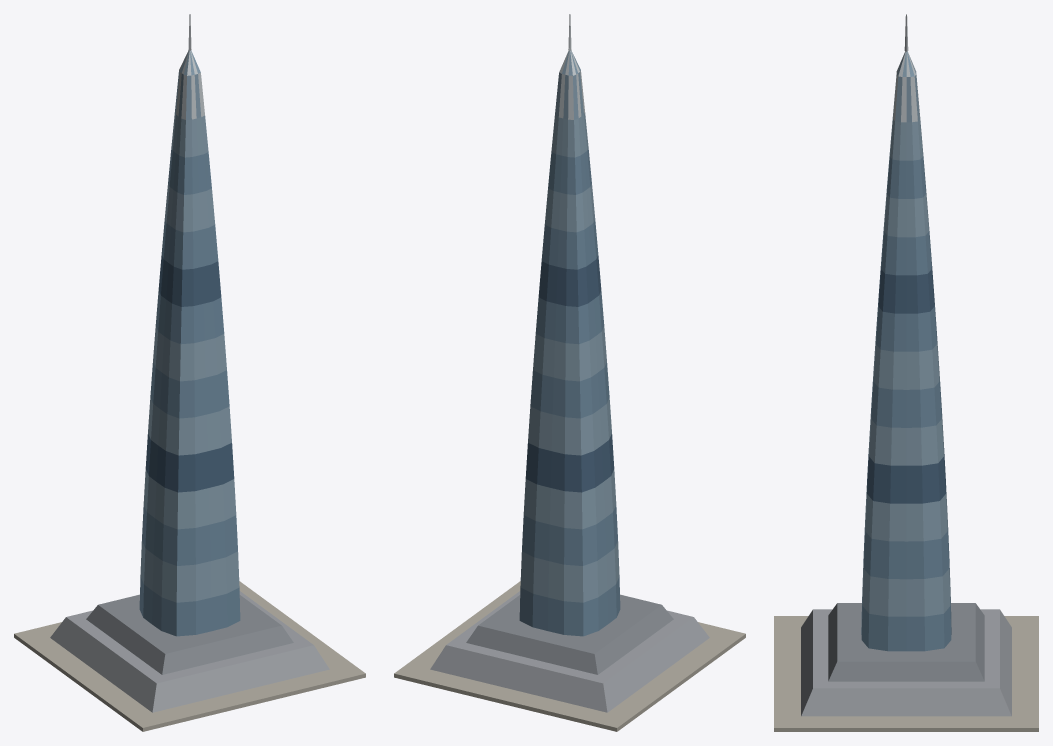
File: lotteTower.glb
3 views of the same model, side by side, from view 1: azimuth 30°, elevation 25°; view 2: azimuth 150°, elevation 25°; view 3: azimuth 270°, elevation 25° (orthographic). The views are drawn at different scales.
Parts seen in each view (by area): view 1: lotteTower; view 2: lotteTower; view 3: lotteTower.
Boxes of the visible parts, <box> form: lotteTower: <box>14,14,365,731</box>; lotteTower: <box>394,14,745,731</box>; lotteTower: <box>774,14,1038,731</box>.
Size of the model in its own units: 1.76 by 4.85 by 1.76.
